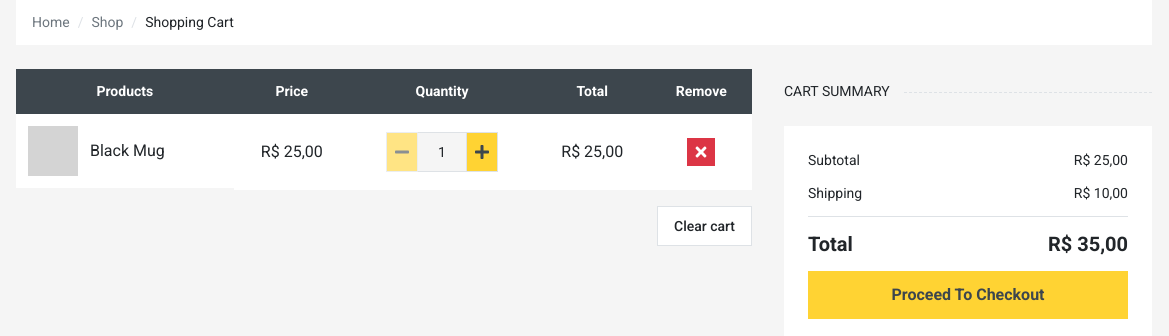
Test case: Cart › shows the empty cart after the last line is removed
Expected: the text "Black Mug" is shown, [90, 139, 165, 163]
Click the button named "Remove Black Mug": (701, 152) [687, 138, 715, 166]
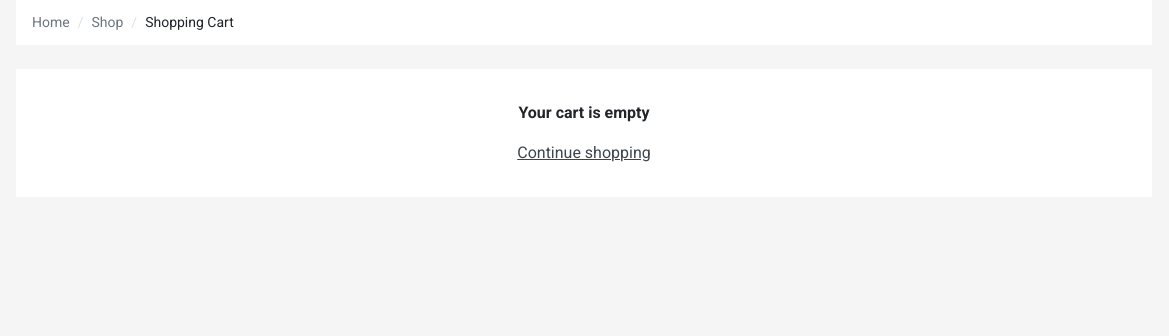
Expected: the text "Your cart is empty" is shown, [518, 101, 650, 125]
